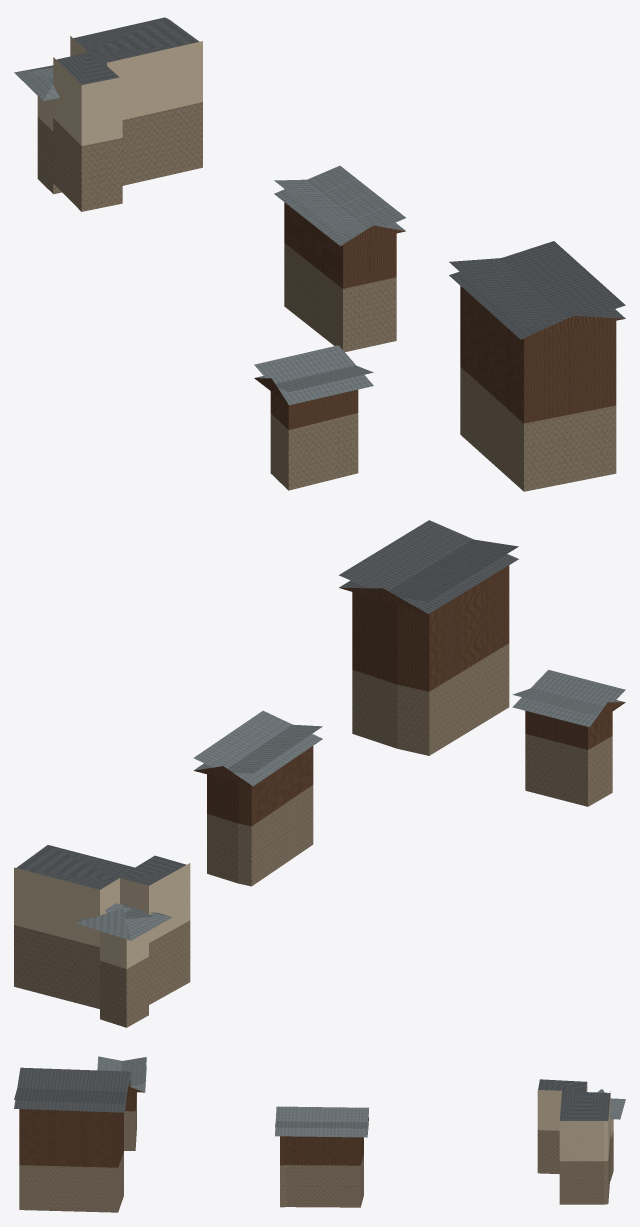
The model's file is bld_c32_-39_453.gltf.
3 renders of one model, top to bottom at view 1: azimuth 30°, elevation 25°; view 2: azimuth 150°, elevation 25°; view 3: azimuth 270°, elevation 25°, orthographic. The views are drawn at different scales.
Parts seen in each view (by area): view 1: bld_c32_-39_453; view 2: bld_c32_-39_453; view 3: bld_c32_-39_453.
Part boxes in pixels (x1=…): bld_c32_-39_453: x1=14, y1=17, x2=625, y2=491; bld_c32_-39_453: x1=14, y1=520, x2=625, y2=1027; bld_c32_-39_453: x1=14, y1=1056, x2=625, y2=1212.
Bounding box in the file's own units: 22.32 × 13.2 × 62.97.
Materials: 7 (7 with a texture image).
